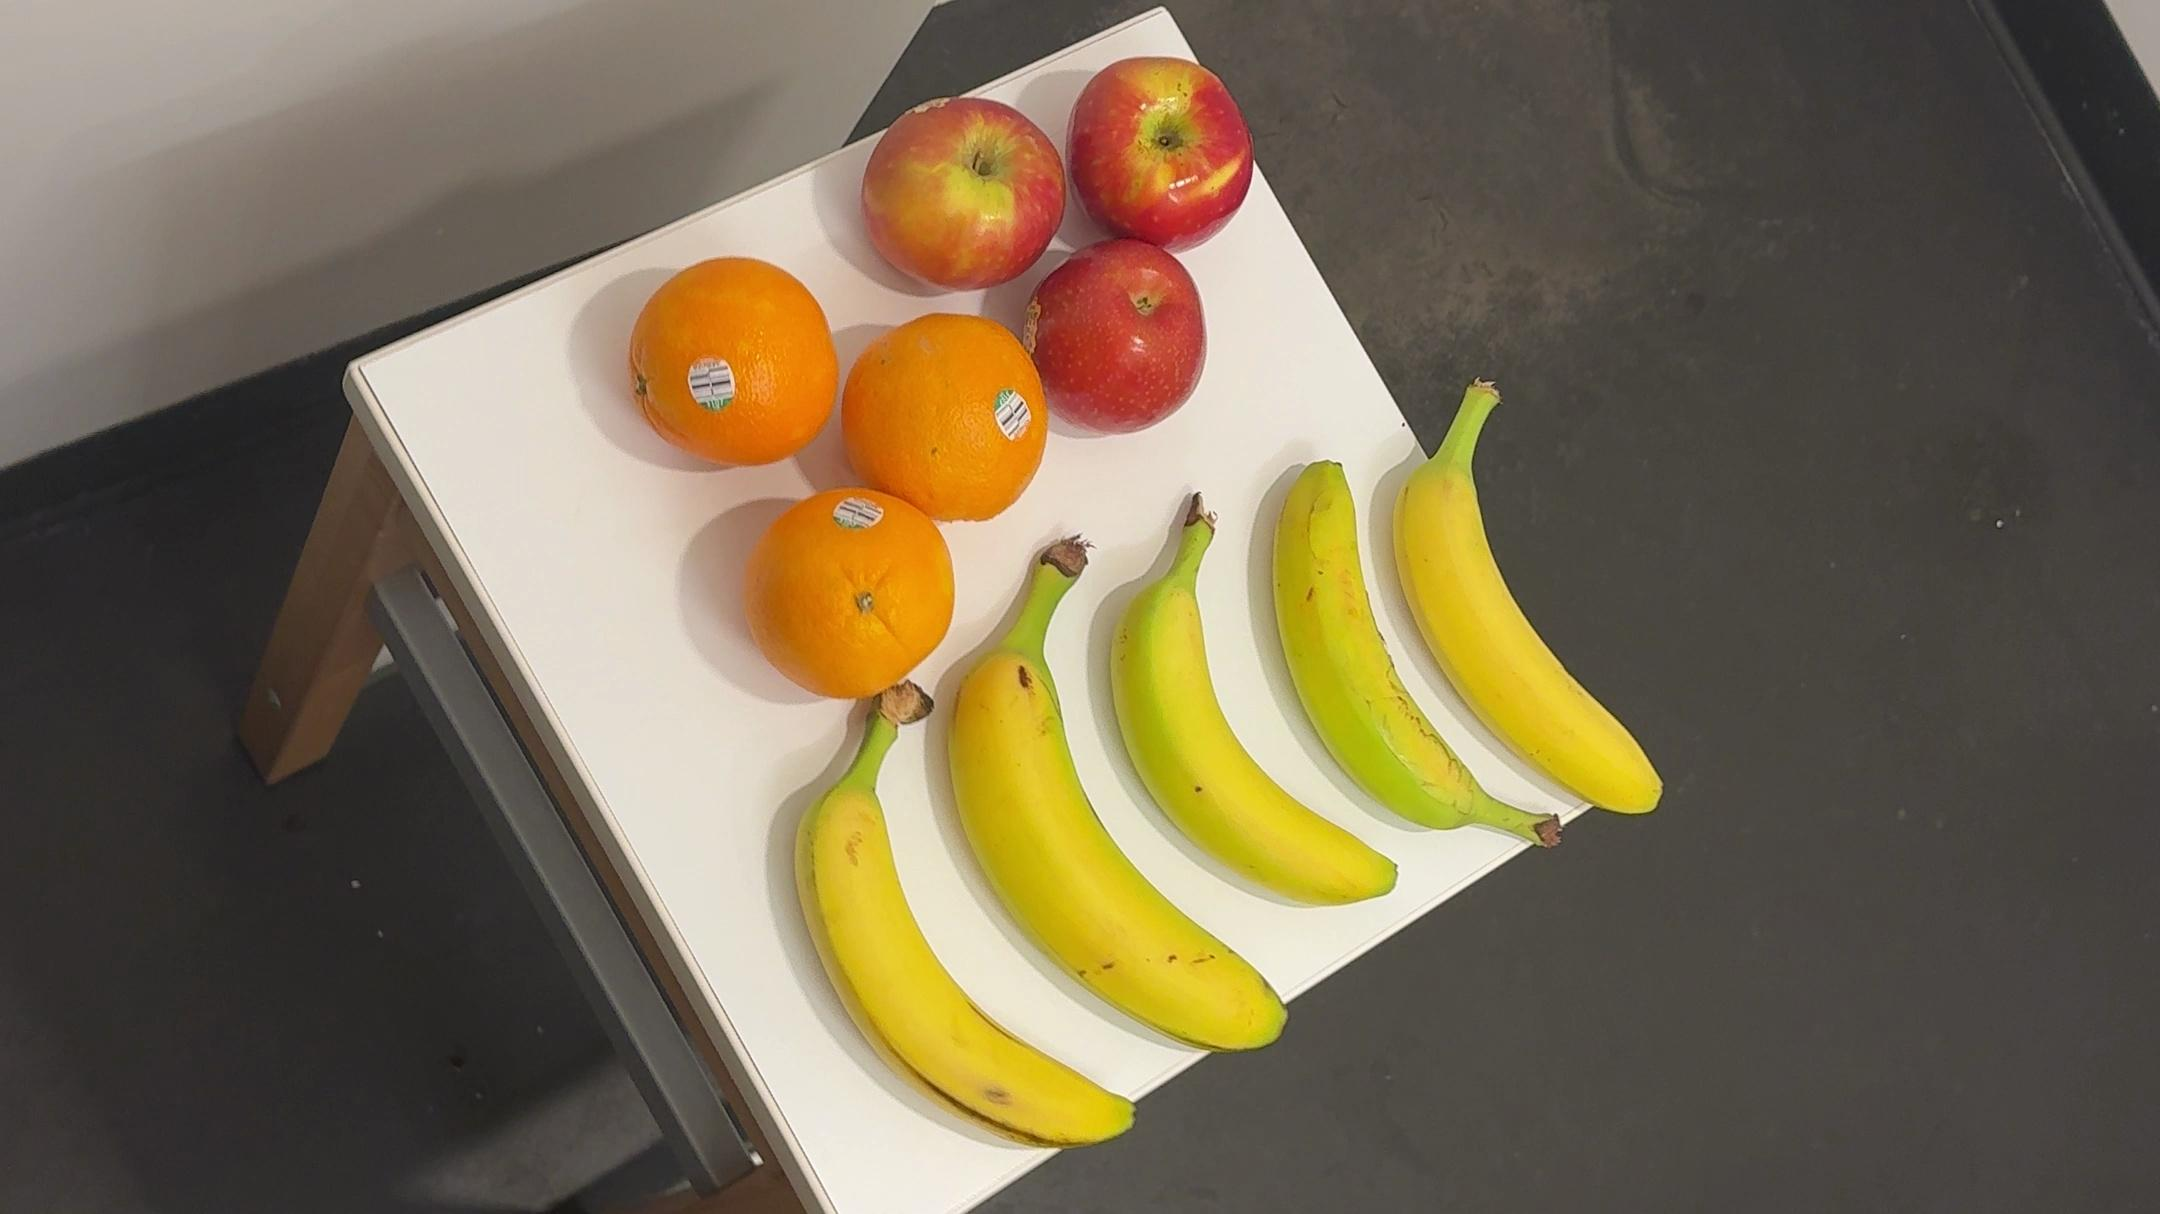apple: (853, 91, 1062, 298), (1064, 49, 1261, 248), (1033, 251, 1218, 436)
banana: (906, 542, 1300, 1064), (761, 687, 1139, 1162), (1081, 487, 1400, 935), (1365, 371, 1673, 827), (1245, 441, 1573, 867)
orange: (745, 485, 955, 708), (625, 255, 837, 475), (840, 307, 1044, 524)
